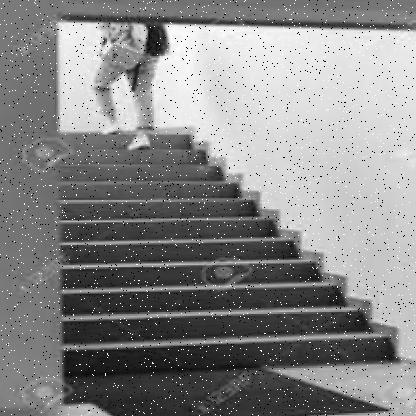stair_up: (57, 200, 395, 364)
